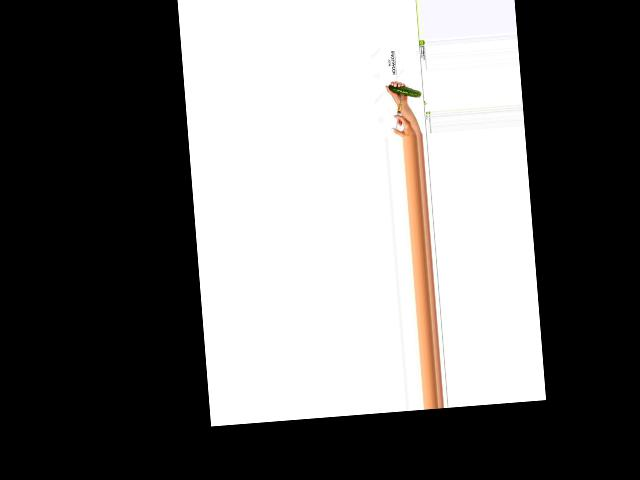cucumber: (388, 82, 421, 99)
